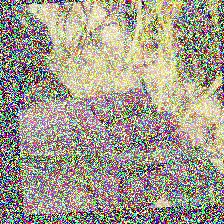Leaf_Blast: (26, 140, 224, 170)
